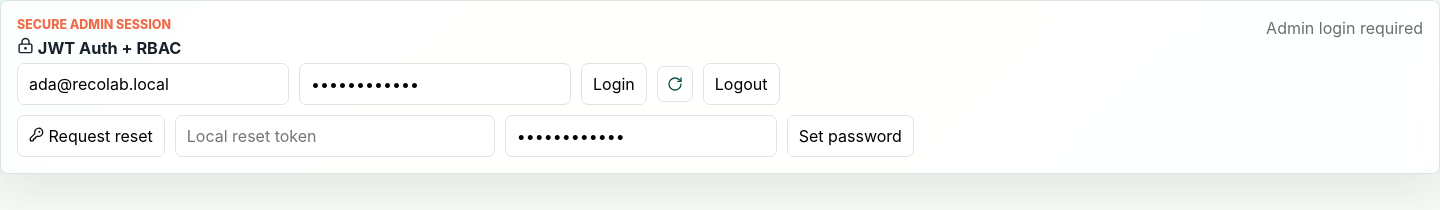
it: LoginPanel › renders refresh and local password reset controls
Click the button "Login". click: (614, 84)
box: [581,63,647,105]
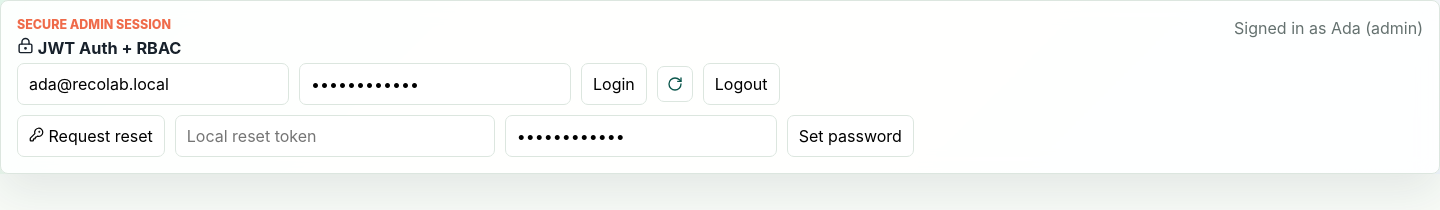
Expected: the text "Signed in as Ada (admin)" is shown, [1234,17,1423,40]
Click the button titled "Refresh session". click: (675, 84)
box: [657,66,693,102]
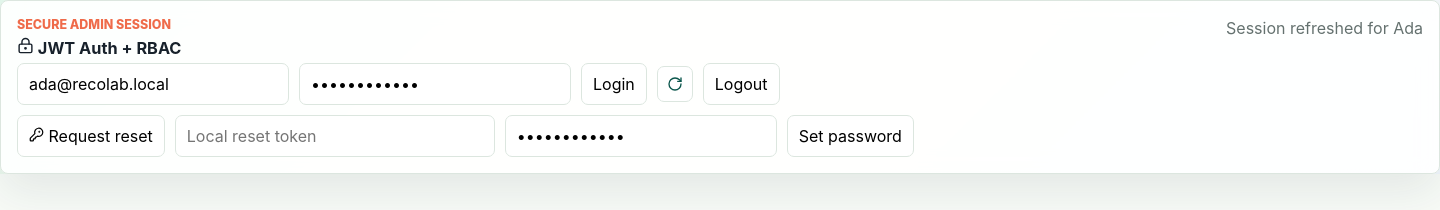
Expected: the text "Session refreshed for Ada" is shown, [1226,17,1423,40]
Click the button "Request reset". click: (91, 136)
box: [17,115,165,157]
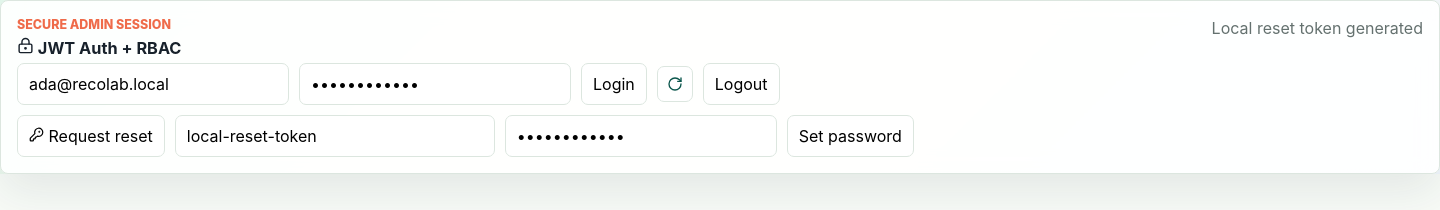
Expected: the text "Local reset token generated" is shown, [1212,17,1423,40]
